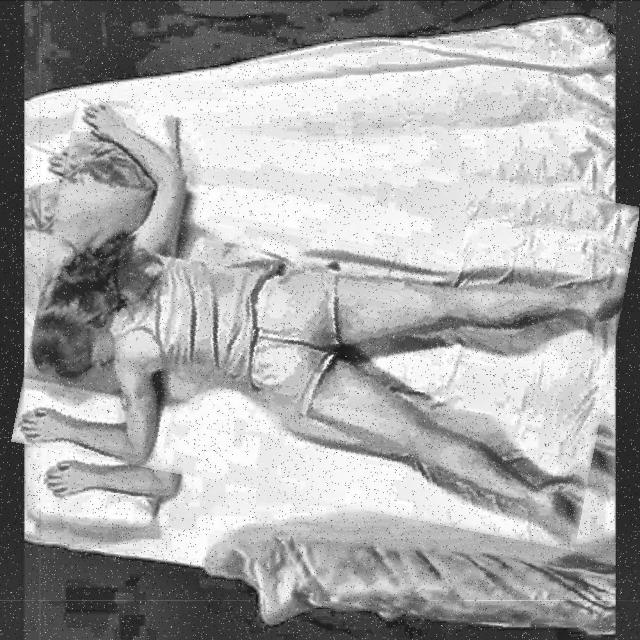Not_Supine: (21, 104, 625, 534)
